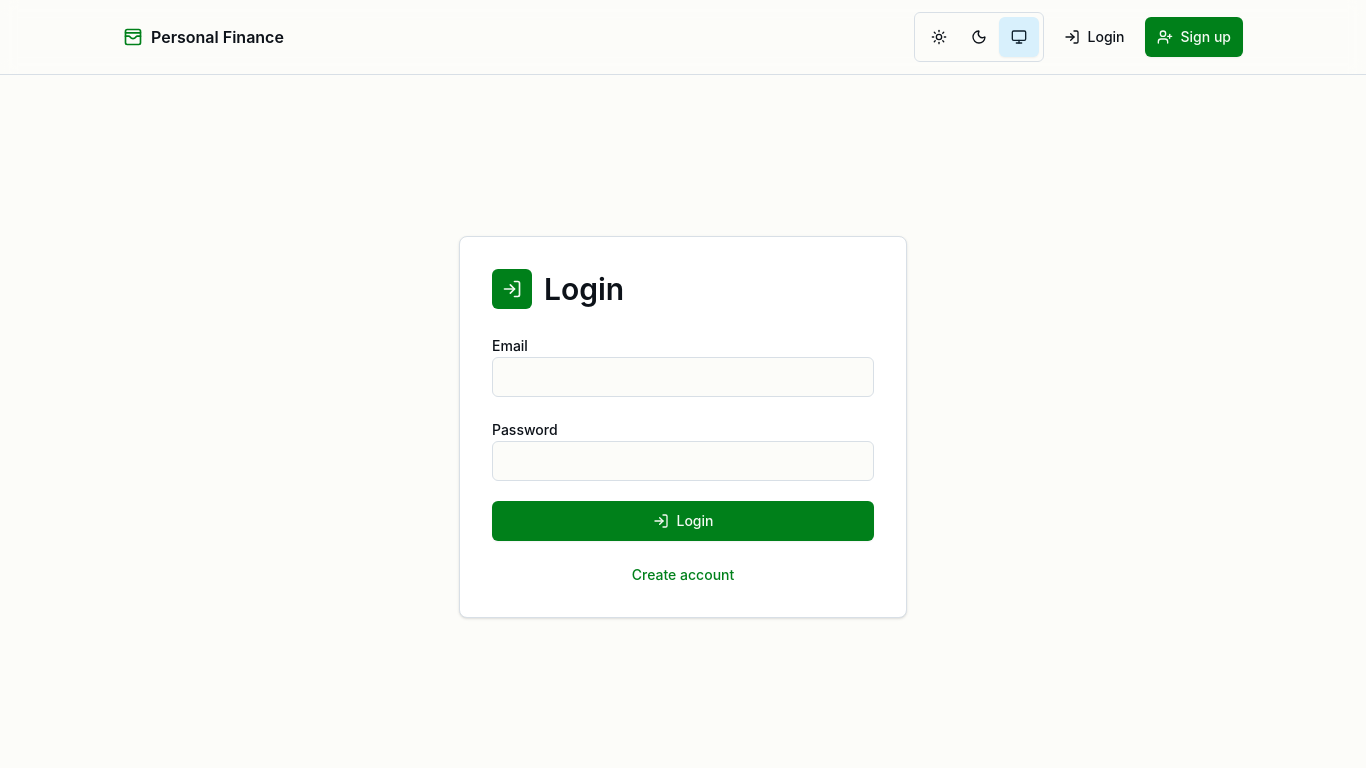
Scenario: shows the backend login error message
Check: the heading "Login" is shown, box [544,271,624,307]
In the field labelled "Email": (683, 377) [492,357,874,397], type "ada@example.com"
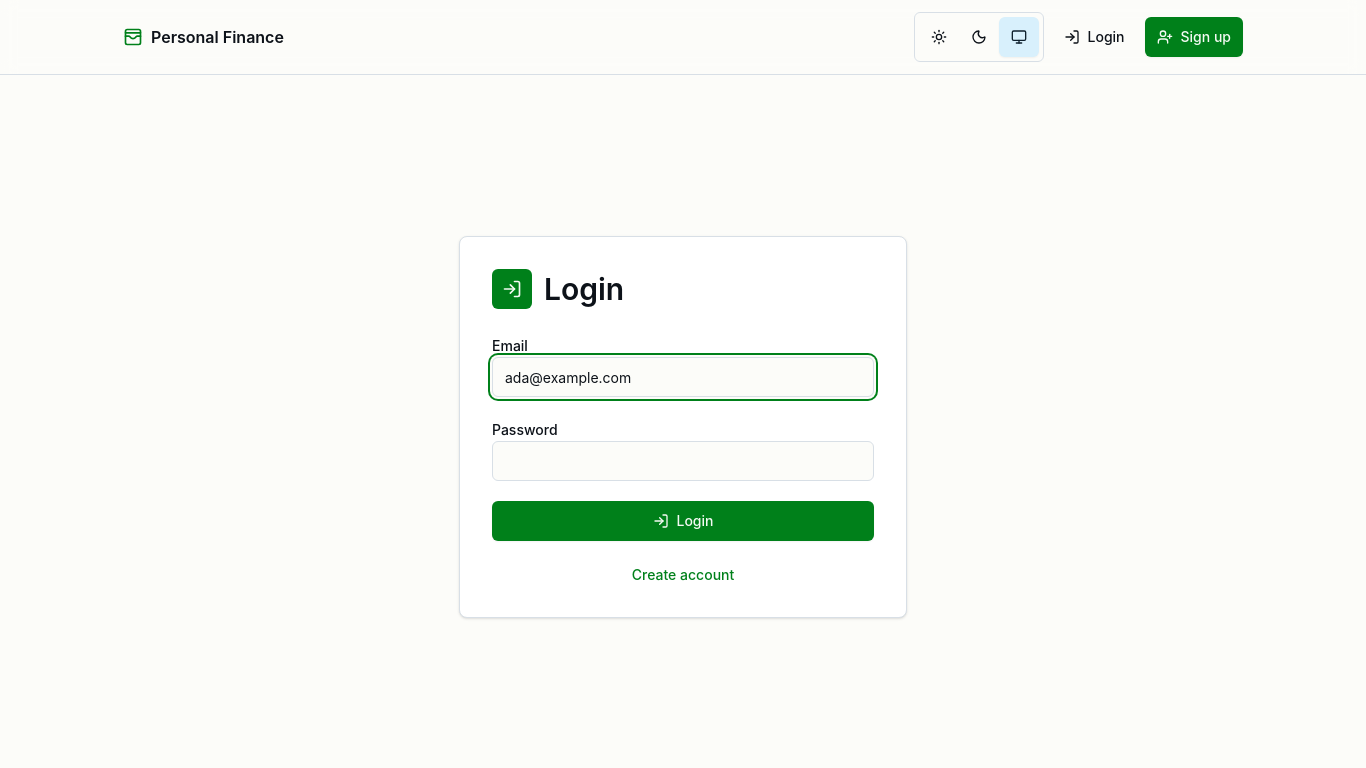
In the password field labelled "Password": (683, 461) [492,441,874,481], type "wrong-password"
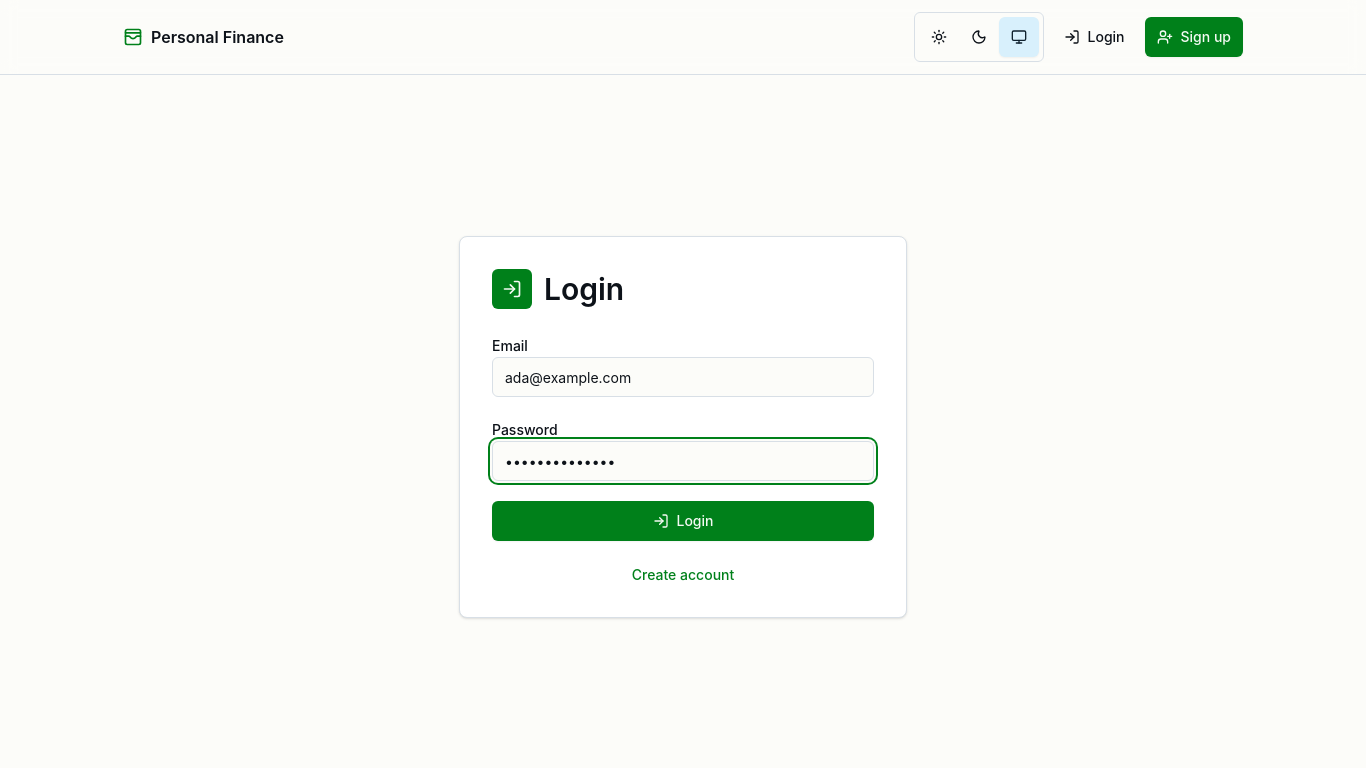
Click the button "Login": (683, 521) [492,501,874,541]
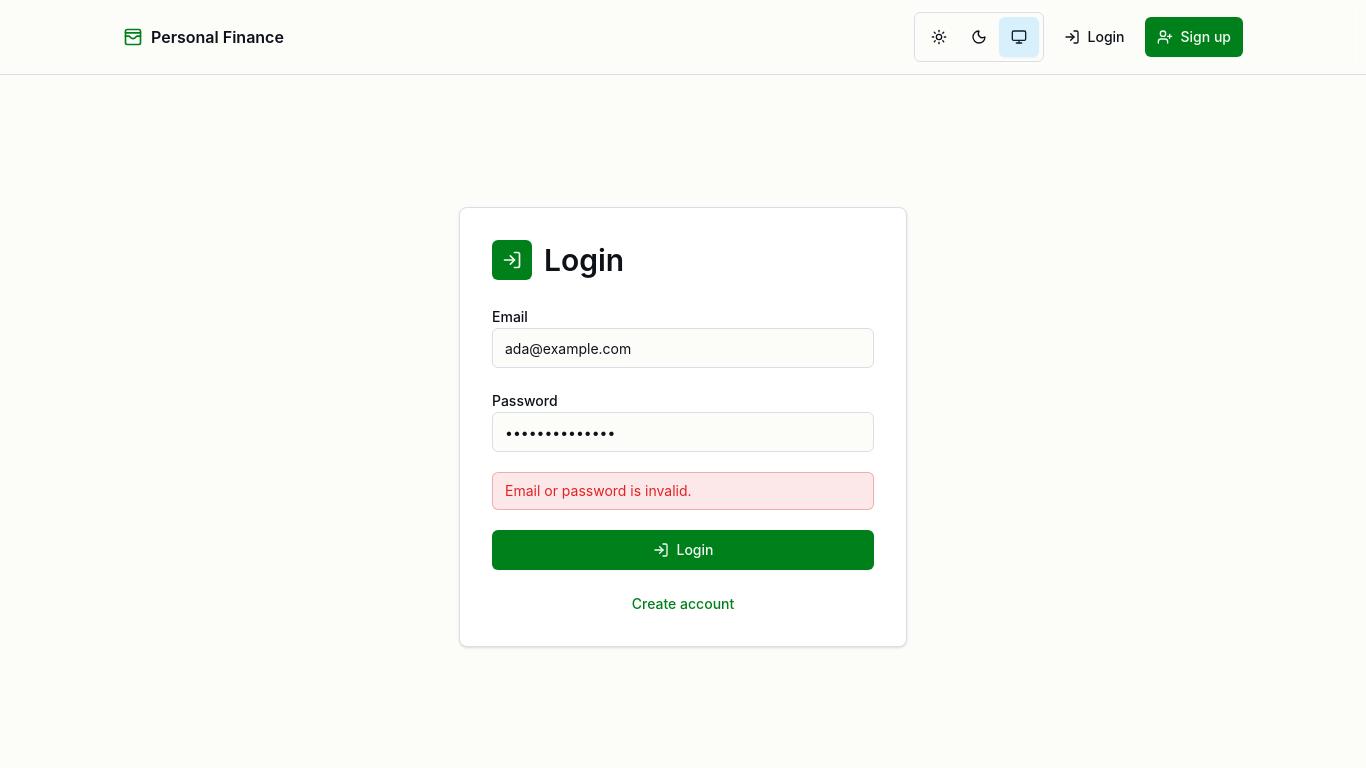
Check: the message reads "Email or password is invalid.", box [505,482,692,499]
